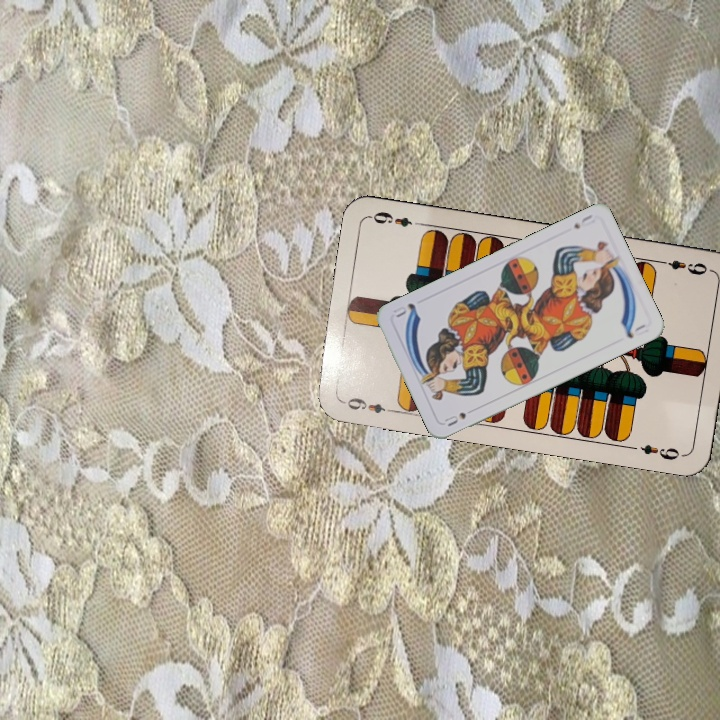E9: (654, 255, 713, 278), (339, 393, 388, 416)
SU: (441, 404, 479, 429), (569, 210, 598, 232)
